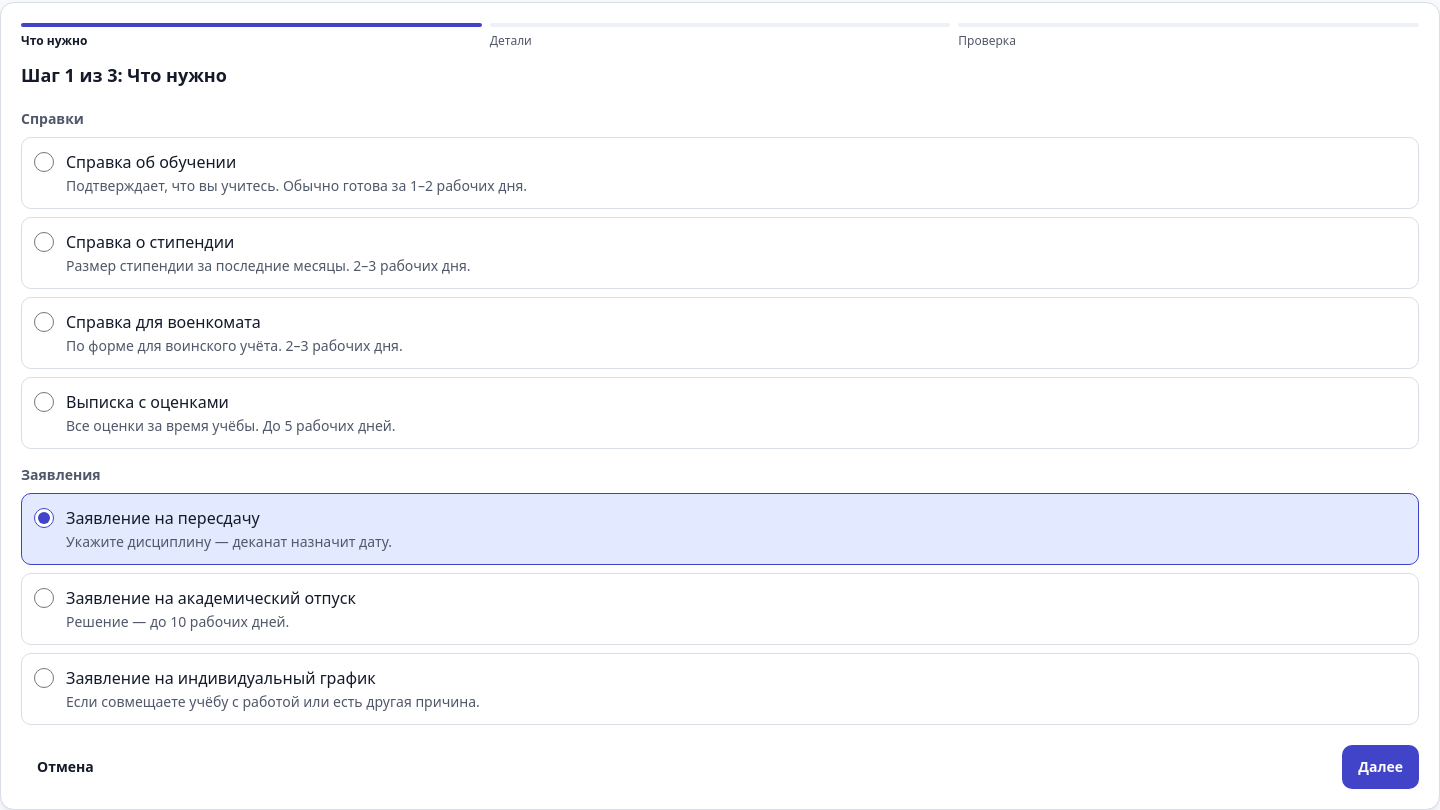
Test: RequestsPage › ссылка от долга: тип «пересдача» выбран, пояснение заполнено дисциплиной; «Отмена» чистит адрес
Later steps or results of the test are not shown.
(page scrolled)
expect the radio button labelled "Заявление на пересдачу" is checked: met, box [34,508,54,528]
Click the button "Далее": point(1381, 767) [1342,745,1419,789]
(page scrolled)
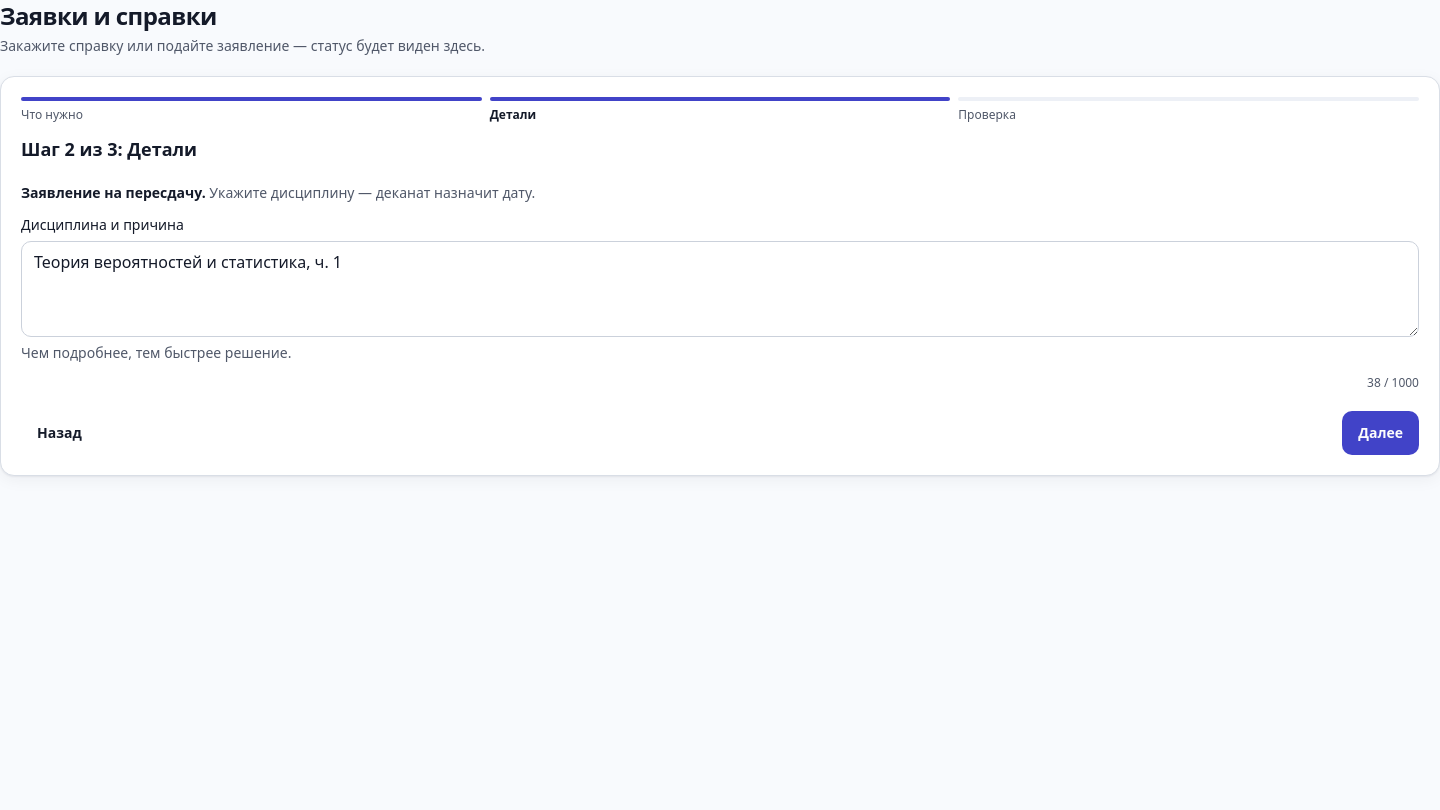
expect the text box holds "Теория вероятностей и статистика, ч. 1": met, box [21,241,1419,337]
